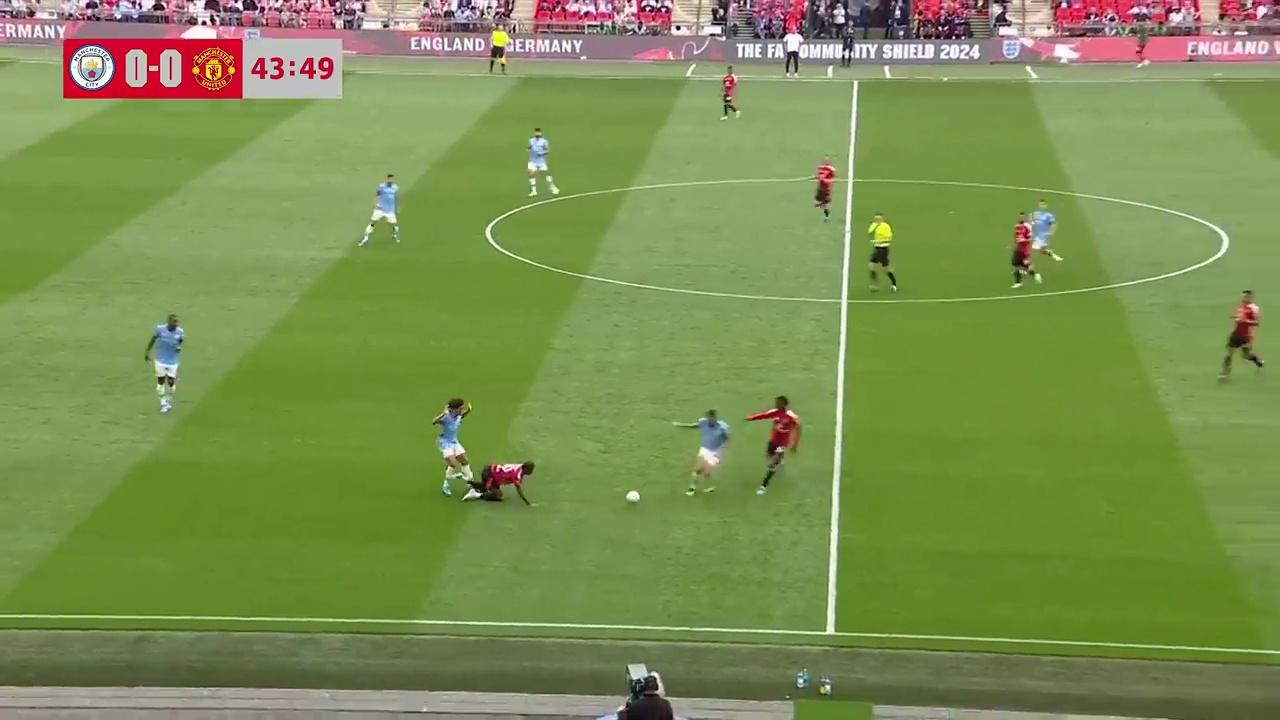ball: (625, 487, 641, 504)
player: (744, 395, 800, 496), (1216, 289, 1264, 382), (431, 397, 475, 498), (684, 408, 731, 496), (145, 314, 185, 413), (358, 173, 402, 246), (474, 457, 534, 507), (1010, 217, 1043, 287), (526, 127, 559, 196), (1028, 202, 1061, 266), (812, 157, 837, 223), (719, 68, 739, 119)
referee: (866, 212, 898, 293), (486, 24, 508, 76)
